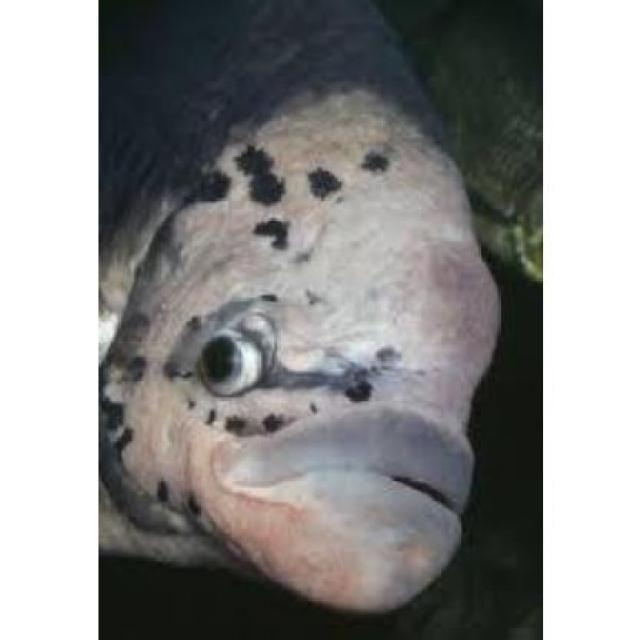gurame: (96, 0, 500, 615)
